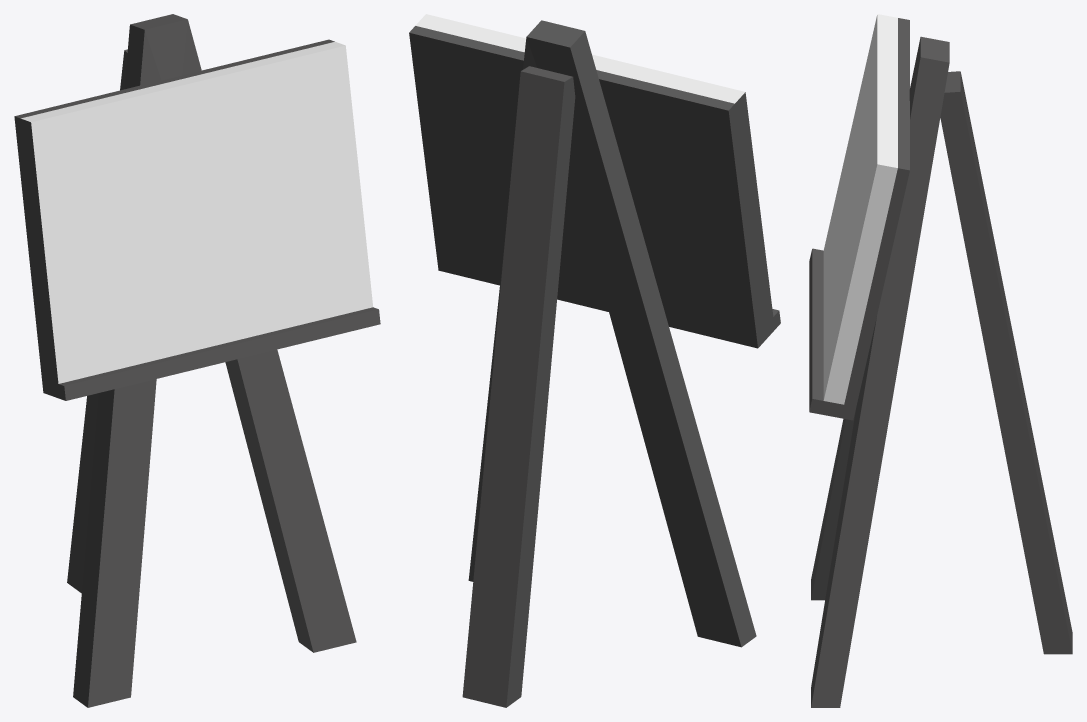
The model's file is easel.glb.
3 views of the same model, side by side, from view 1: azimuth 30°, elevation 25°; view 2: azimuth 150°, elevation 25°; view 3: azimuth 270°, elevation 25° (orthographic). The views are drawn at different scales.
Parts seen in each view (by area): view 1: easel; view 2: easel; view 3: easel.
Part boxes in pixels (left/top/right/bottom): easel: left=14, top=14, right=380, bottom=707; easel: left=409, top=14, right=780, bottom=707; easel: left=809, top=14, right=1072, bottom=707.
Bounding box in the file's own units: 0.8884 × 1.65 × 0.6583.
Materials: 1 (1 with a texture image).
